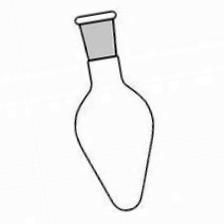Pear shaped flask: (67, 12, 157, 216)
